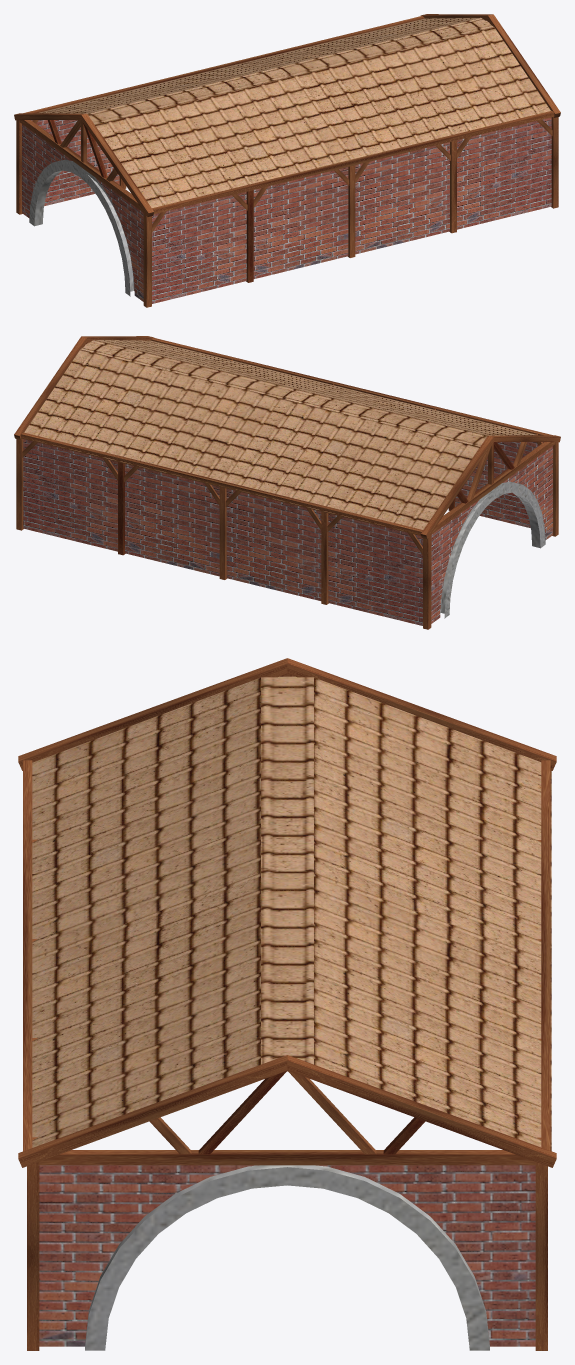
Rendered from Storage_001.dae.
3 renders of one model, top to bottom at view 1: azimuth 30°, elevation 25°; view 2: azimuth 150°, elevation 25°; view 3: azimuth 270°, elevation 25°, orthographic. The views are drawn at different scales.
Parts seen in each view (by area): view 1: Storage_001; view 2: Storage_001; view 3: Storage_001.
Part boxes in pixels (box(x1,y1,x2,y2)): Storage_001: box(14, 14, 560, 307); Storage_001: box(14, 336, 560, 629); Storage_001: box(18, 658, 556, 1350).
Size of the model in its own units: 98 by 55.06 by 32.77.
